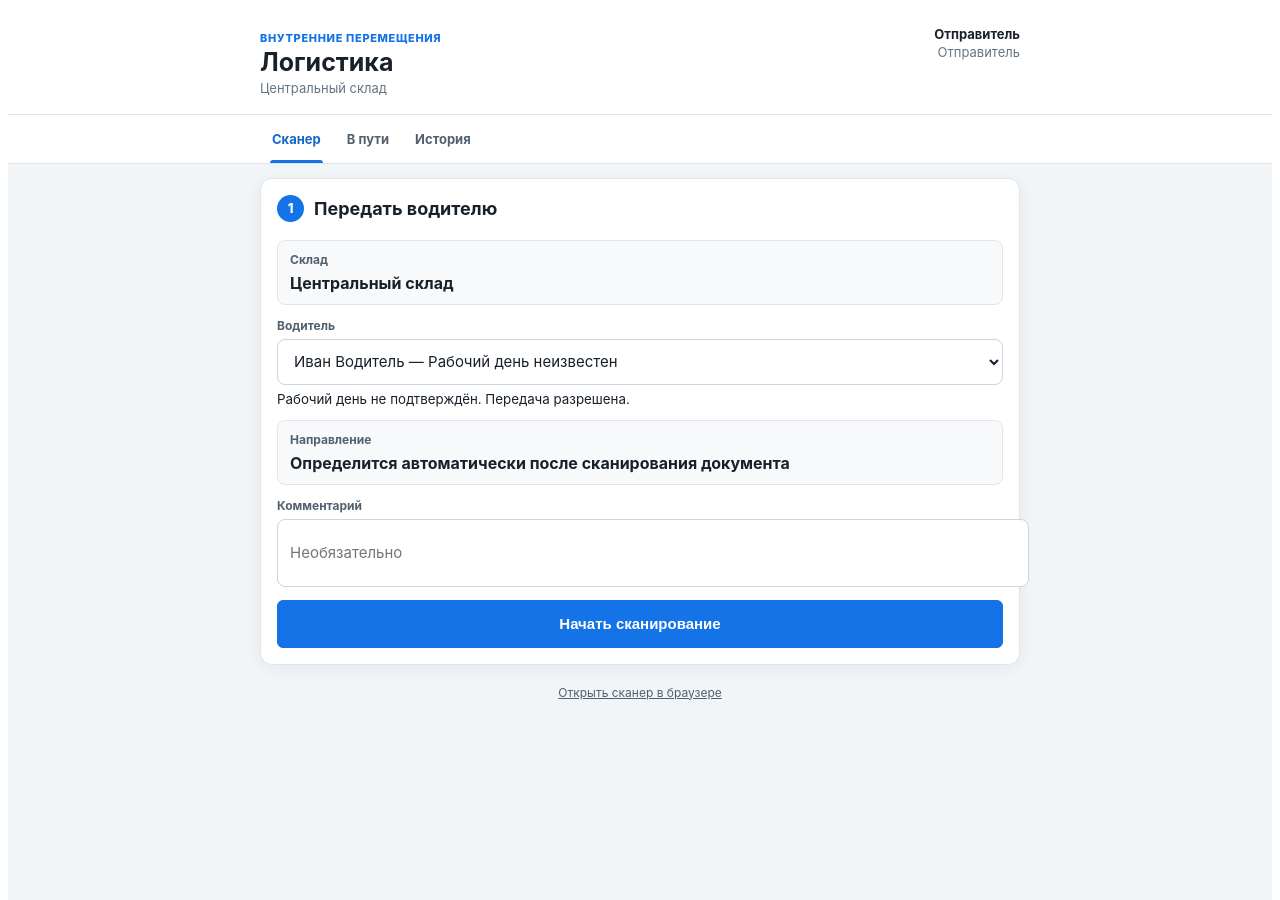
Test: LogisticsWorkspace › открывает понятную историю только после выбора перемещения
Expected: the button "История" is shown, [403, 115, 483, 163]
Step 1. Click the button "В пути" → (368, 139), box [335, 115, 401, 163]
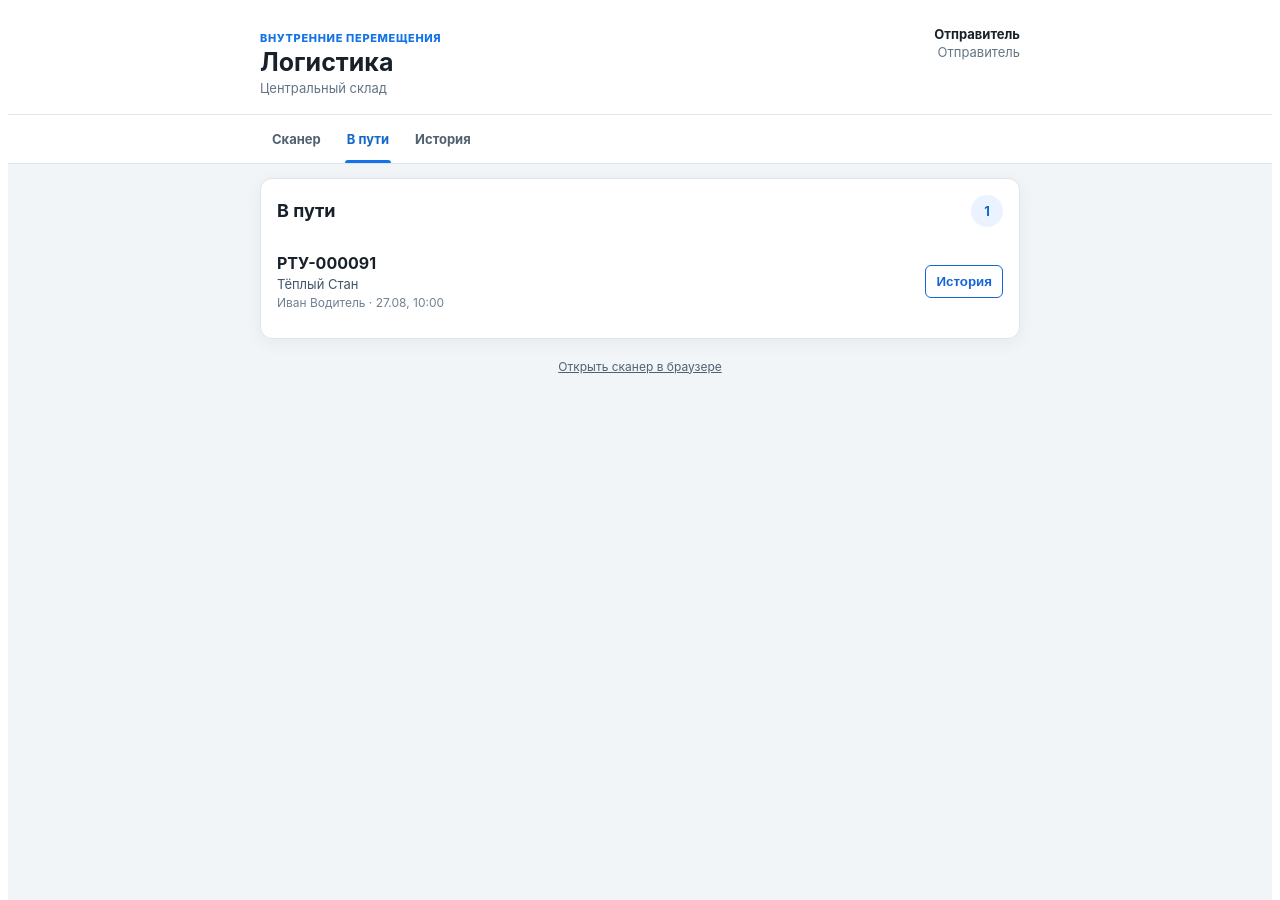
Expected: the text "РТУ-000091" is shown, [277, 253, 376, 273]
Step 2. Click the button "История" in the row of "Иван Водитель · 27.08, 10:00" → (964, 281), box [925, 265, 1003, 298]
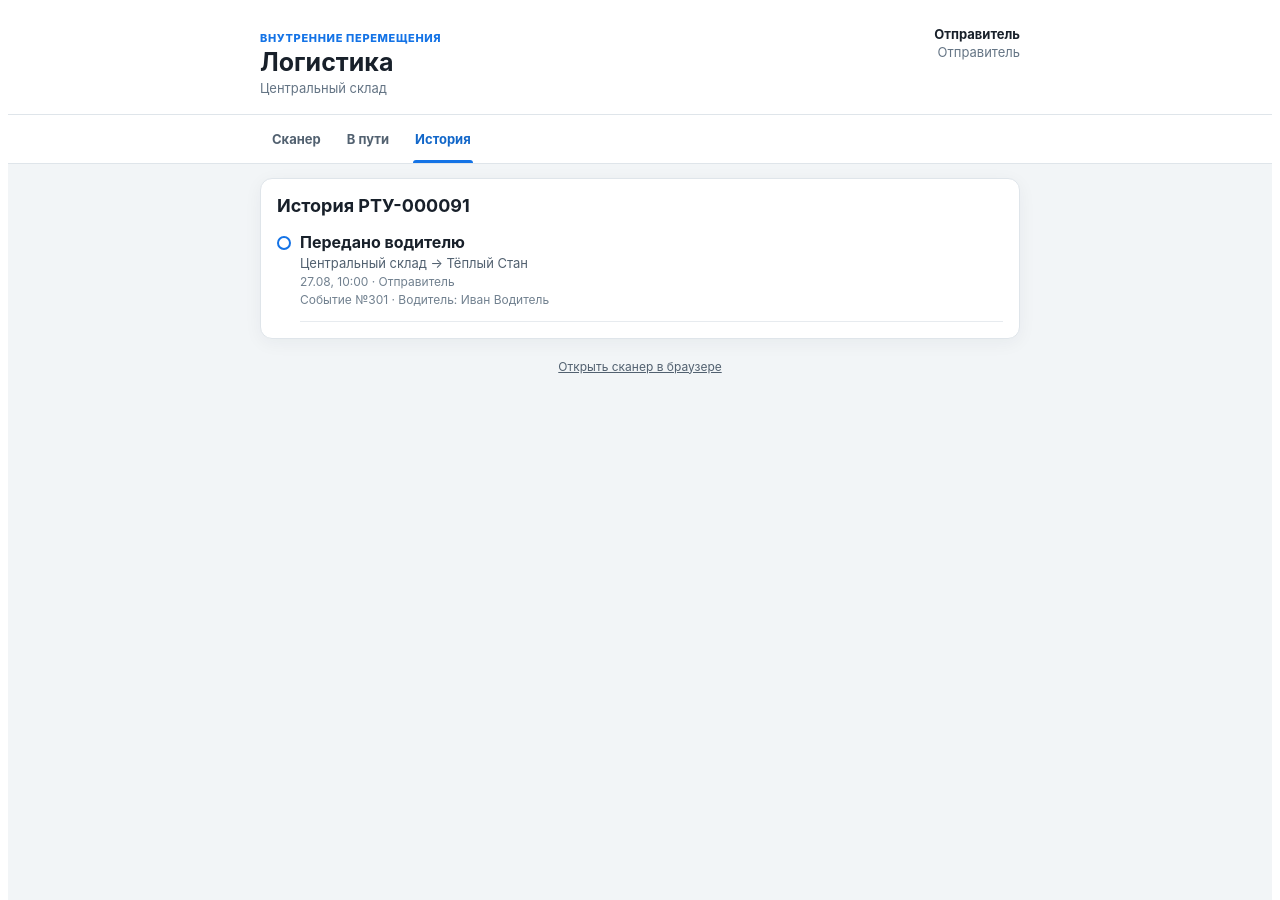
Expected: the text "Передано водителю" is shown, [300, 232, 465, 252]
Expected: the text "Центральный склад → Тёплый Стан" is shown, [300, 255, 528, 271]
Expected: the text "Событие №301 · Водитель: Иван Водитель" is shown, [300, 292, 549, 307]
